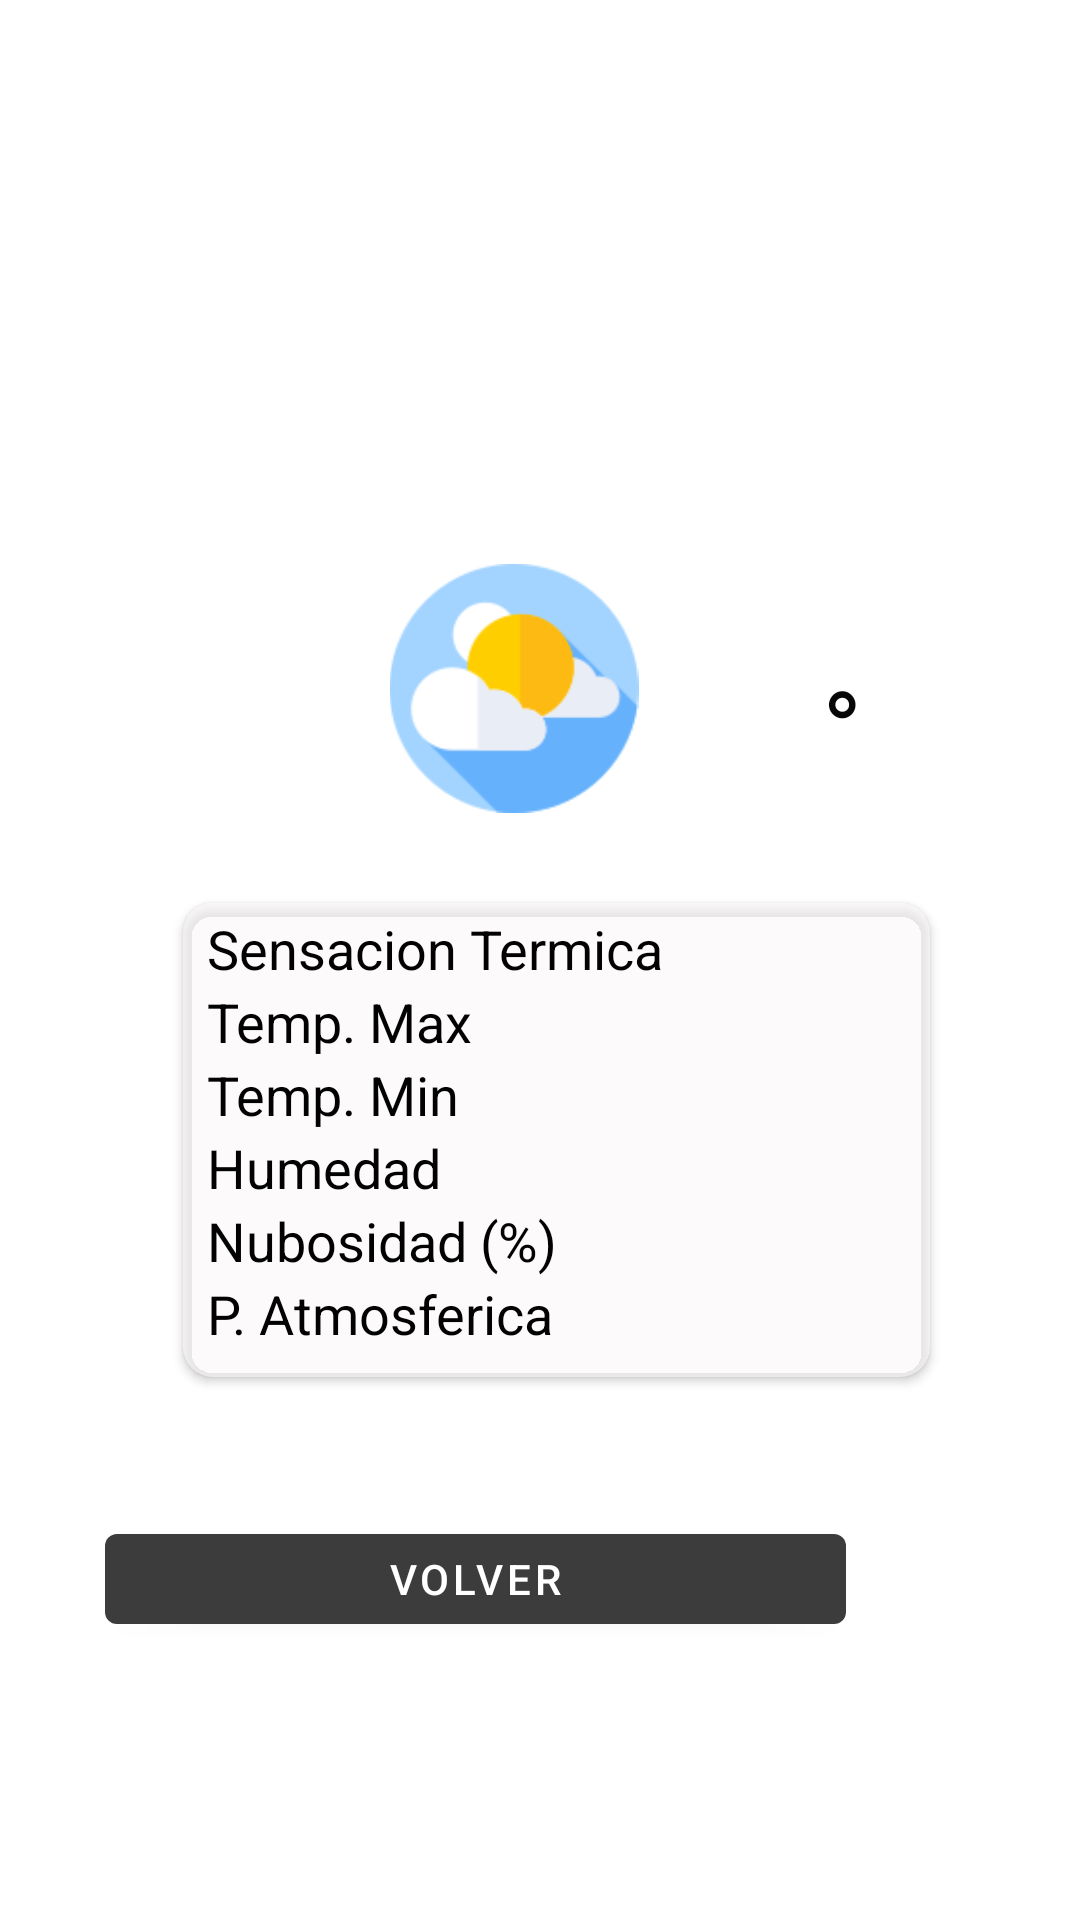

Named icons in this screenshot (1080x1920) and their centers, (x=x, y=y):
nublado: (x=514, y=688)
